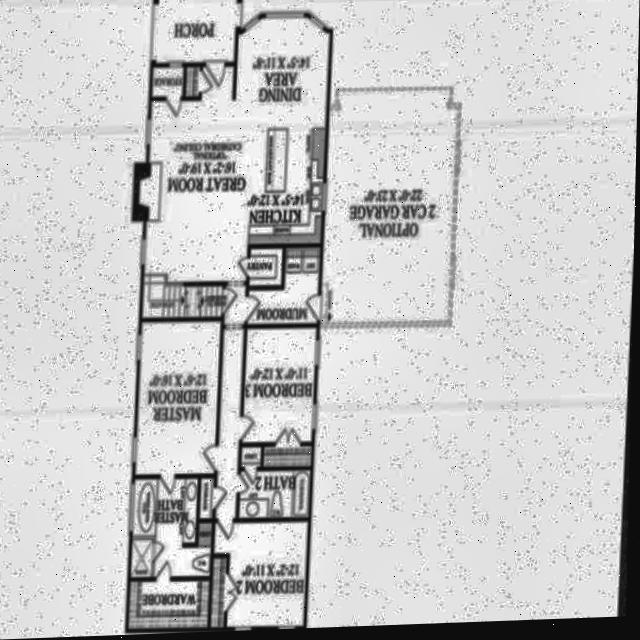room: (139, 62, 255, 286), (137, 316, 223, 478), (235, 13, 331, 124), (247, 115, 327, 246), (216, 519, 312, 626), (243, 323, 319, 445), (133, 475, 217, 580), (249, 242, 322, 327), (218, 327, 246, 518), (156, 0, 237, 63), (144, 283, 248, 324), (130, 579, 213, 628), (240, 467, 314, 517), (251, 246, 284, 286), (213, 555, 229, 627), (152, 66, 185, 97), (265, 445, 314, 465), (203, 476, 217, 518), (243, 446, 264, 466)
